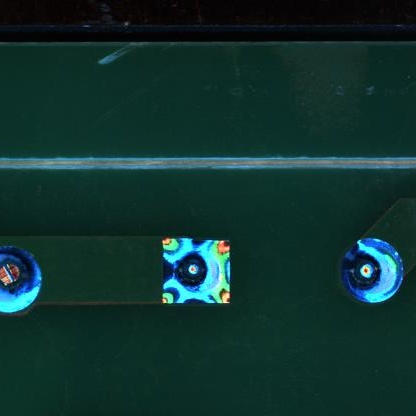spot: (161, 235, 233, 306), (339, 237, 405, 305), (1, 243, 42, 317)
